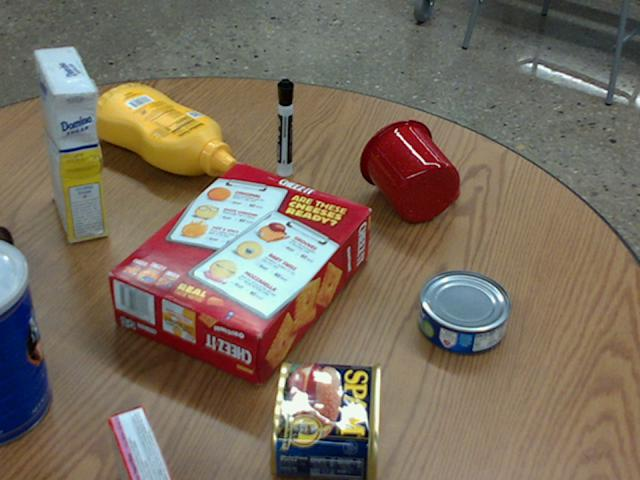cracker_box: (110, 164, 370, 383)
gelatin_box: (107, 404, 171, 479)
large_marker: (276, 79, 293, 175)
master_chef_can: (0, 239, 49, 442)
mug: (359, 119, 460, 222)
mustard_bottle: (88, 84, 236, 175)
potted_meat_can: (269, 361, 380, 479)
sugar_box: (36, 47, 105, 241)
tomato_soup_can: (0, 224, 13, 285)
tuna_fish_can: (418, 270, 510, 354)
